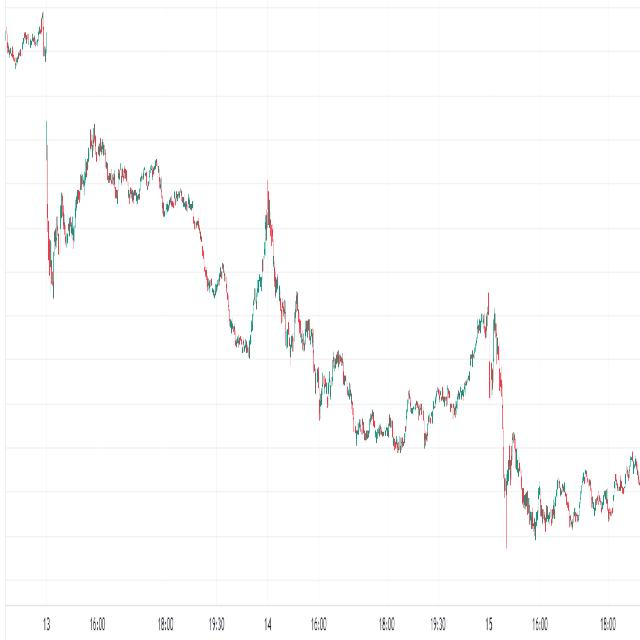Rounding-Bottom: (269, 219, 490, 468), (67, 70, 223, 217)
